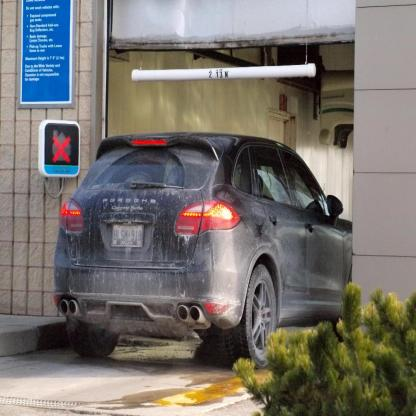Car: (54, 132, 353, 371)
